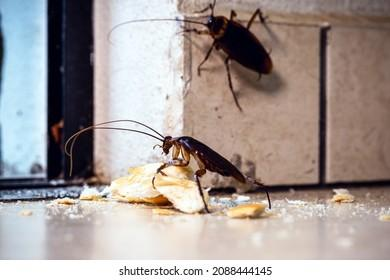cockroach: (153, 130, 251, 192), (198, 10, 276, 83)
